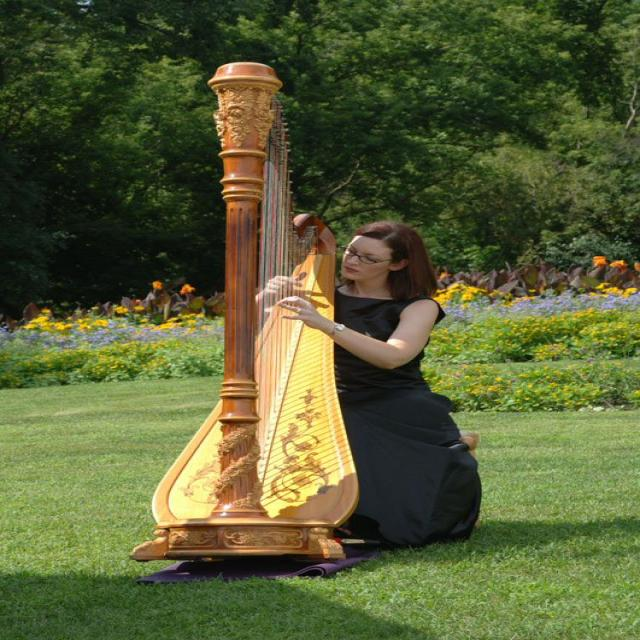harp: (131, 58, 363, 566)
